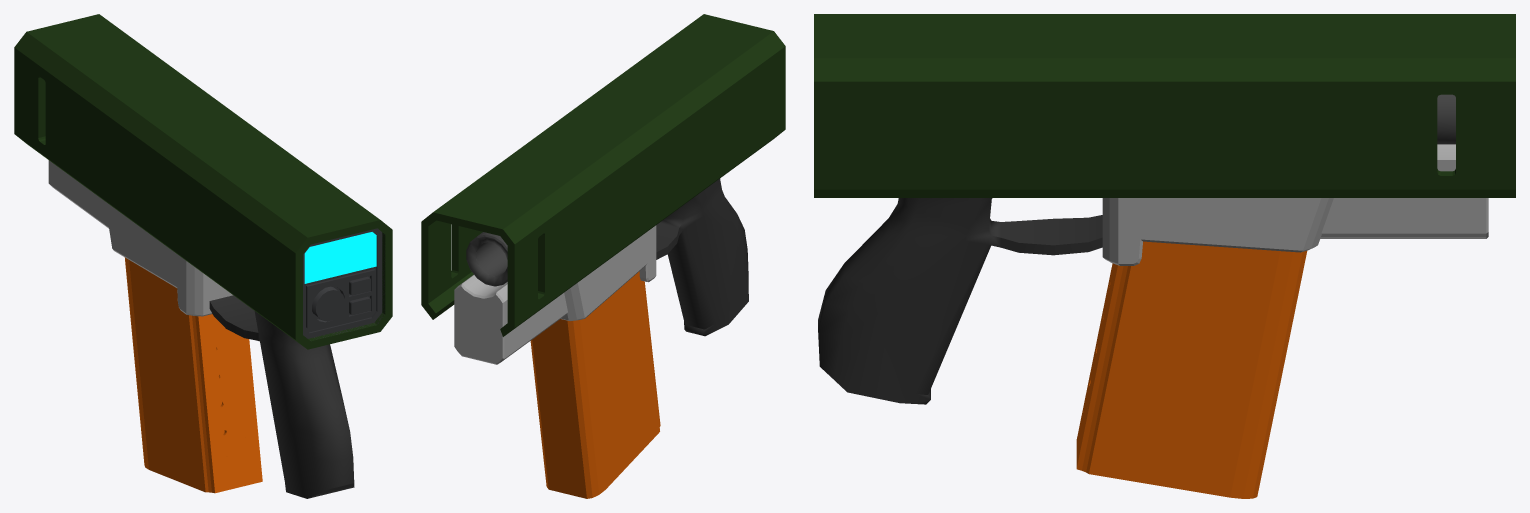
File: Gun001.fbx
The picture shows the model from 3 angles, left to right: view 1: azimuth 30°, elevation 25°; view 2: azimuth 150°, elevation 25°; view 3: azimuth 270°, elevation 25°; orthographic projection. The views are drawn at different scales.
Visible parts, largest first — view 1: Upper, Magazine, Pistol Grip, Panel, Magazine Insert, Display, Lower; view 2: Upper, Magazine, Pistol Grip, Lower, Magazine Insert, Barrel; view 3: Upper, Magazine, Pistol Grip, Magazine Insert, Lower, Barrel.
Boxes of the visible parts, x1=… form: Upper: x1=14, y1=14, x2=392, y2=349; Magazine: x1=124, y1=257, x2=262, y2=493; Pistol Grip: x1=209, y1=295, x2=354, y2=498; Panel: x1=303, y1=228, x2=385, y2=340; Magazine Insert: x1=105, y1=201, x2=232, y2=316; Display: x1=304, y1=232, x2=376, y2=283; Lower: x1=48, y1=160, x2=108, y2=228; Upper: x1=421, y1=14, x2=785, y2=336; Magazine: x1=530, y1=271, x2=660, y2=498; Pistol Grip: x1=656, y1=178, x2=748, y2=336; Lower: x1=454, y1=275, x2=567, y2=364; Magazine Insert: x1=561, y1=225, x2=656, y2=320; Barrel: x1=466, y1=232, x2=507, y2=286; Upper: x1=814, y1=14, x2=1515, y2=197; Magazine: x1=1076, y1=241, x2=1307, y2=498; Pistol Grip: x1=818, y1=198, x2=1102, y2=404; Magazine Insert: x1=1102, y1=198, x2=1333, y2=265; Lower: x1=1320, y1=144, x2=1488, y2=238; Barrel: x1=1437, y1=94, x2=1455, y2=144.
Bounding box in the file's own units: 30 × 106 × 151.
